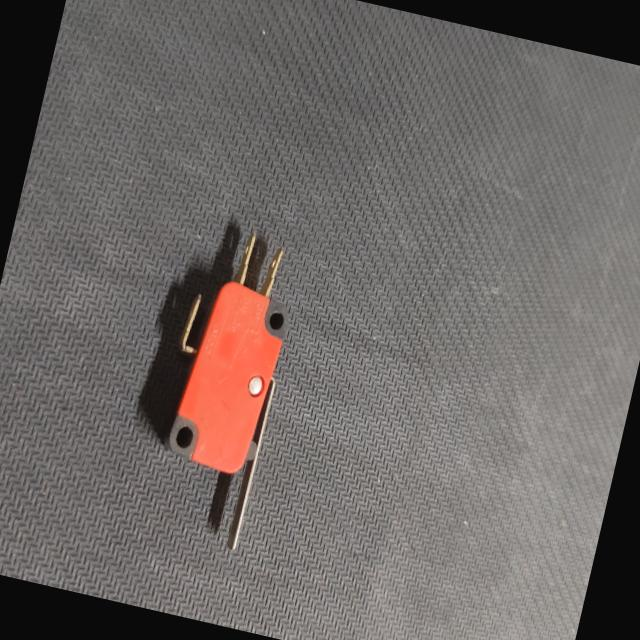switch: (122, 218, 317, 561)
